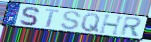H: (99, 14, 126, 37)
Q: (80, 13, 101, 34)
R: (120, 16, 144, 38)
S: (19, 6, 41, 27), (60, 11, 83, 31)
T: (44, 8, 61, 28)
